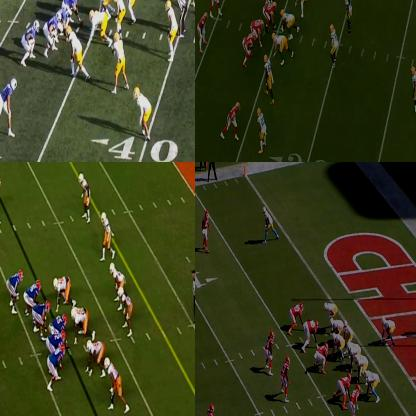CENTER: (65, 0, 86, 29), (263, 0, 277, 27), (53, 314, 68, 338), (333, 332, 344, 356)
DB: (136, 87, 152, 138), (163, 0, 177, 57), (101, 213, 116, 260), (80, 172, 92, 221), (256, 108, 266, 154), (203, 209, 211, 249), (208, 400, 216, 415)
LB: (112, 31, 128, 92), (122, 288, 134, 334), (111, 265, 125, 299), (112, 0, 126, 31), (121, 0, 139, 24), (282, 357, 291, 402), (263, 55, 272, 99), (330, 22, 339, 65), (265, 331, 274, 372), (349, 386, 361, 415), (345, 0, 354, 34)
QB: (342, 320, 354, 341), (211, 0, 223, 18)
SKILL: (0, 76, 19, 133), (9, 269, 24, 314), (223, 100, 240, 136), (24, 17, 38, 60), (366, 371, 380, 401), (262, 206, 273, 243), (382, 316, 396, 344), (199, 13, 208, 51)
